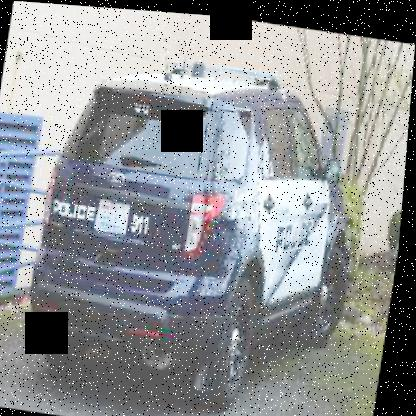emergency: (13, 34, 387, 415)
